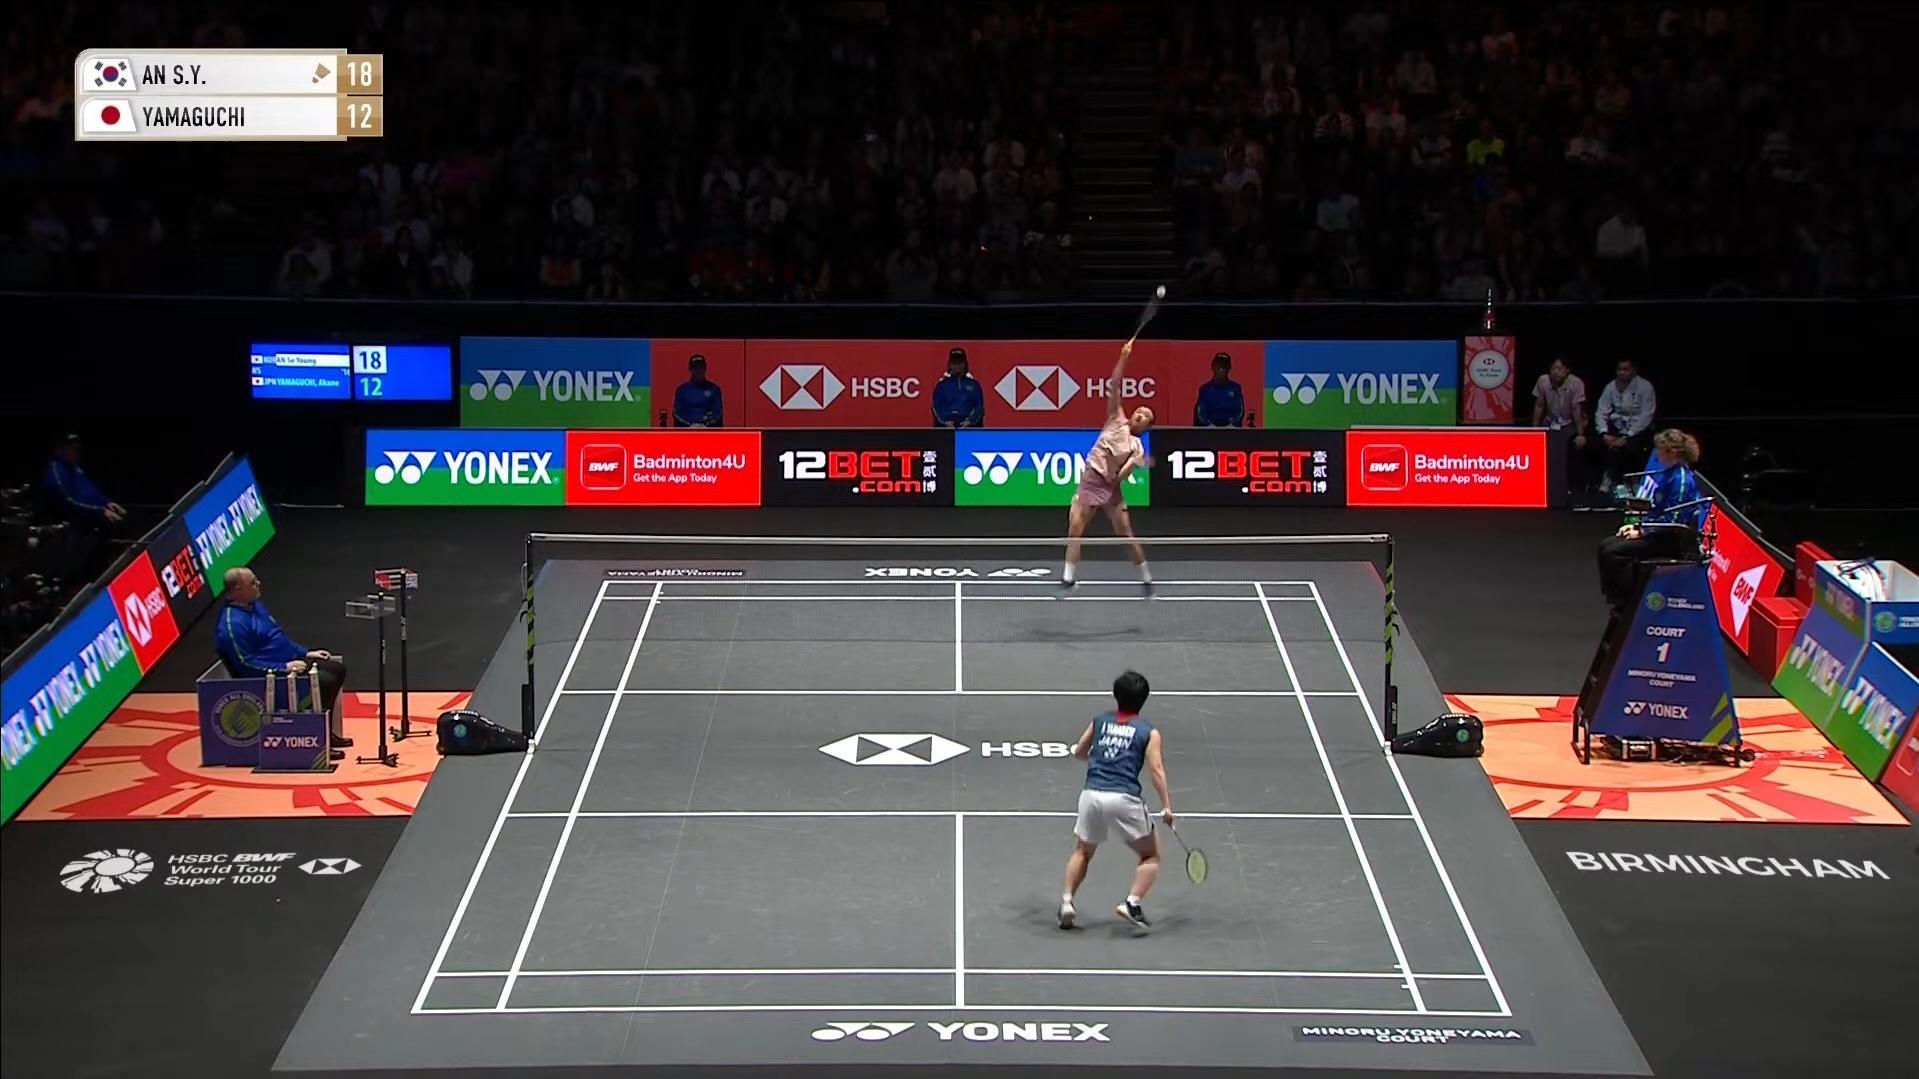shuttle: (1148, 281, 1174, 306)
